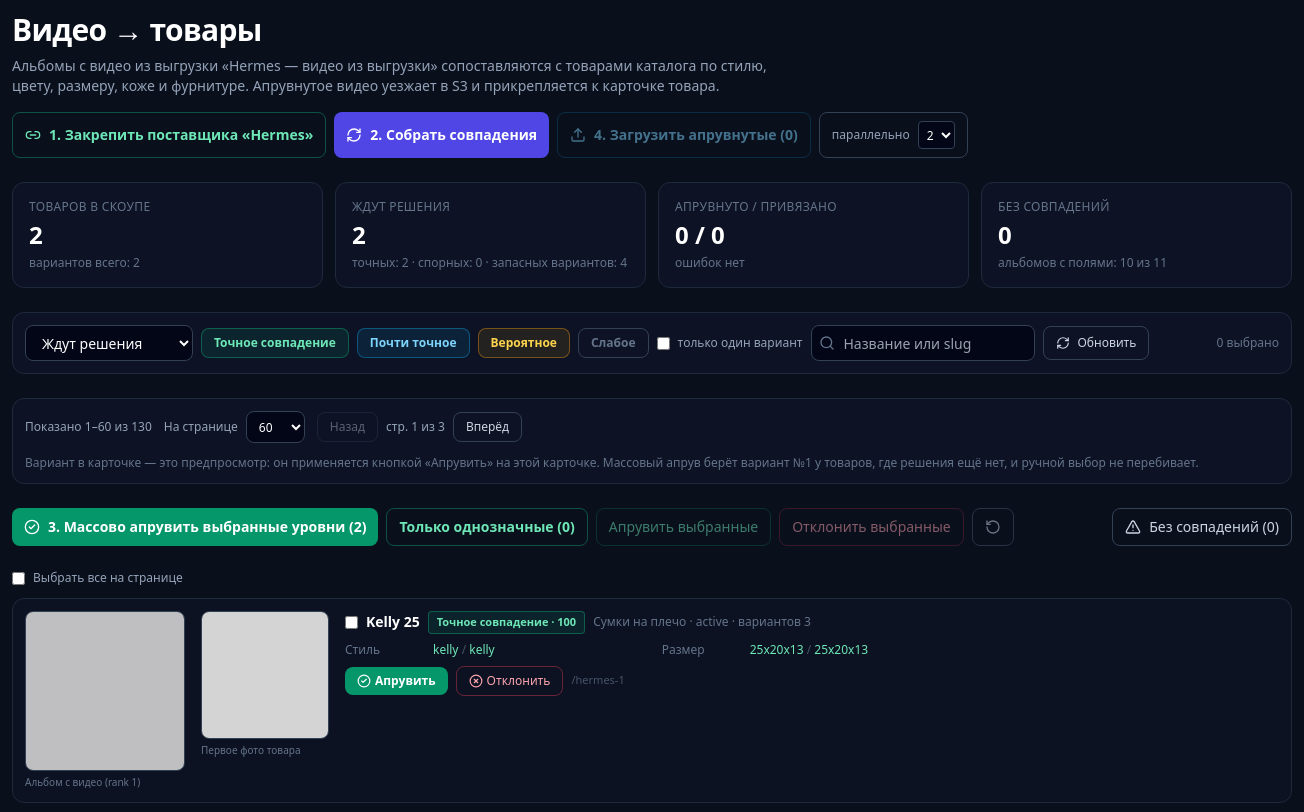
Test: VideoMatchesApp › показывает пагинацию и запрашивает соседнюю страницу
The width and height of the screenshot is (1304, 812).
Expected: the text "Показано 1–60 из 130" is shown, [25,419,152,435]
Expected: the text "стр. 1 из 3" is shown, [382,419,449,435]
Step 1. Click the button "Вперёд" → point(488, 427), box [453,412,522,442]
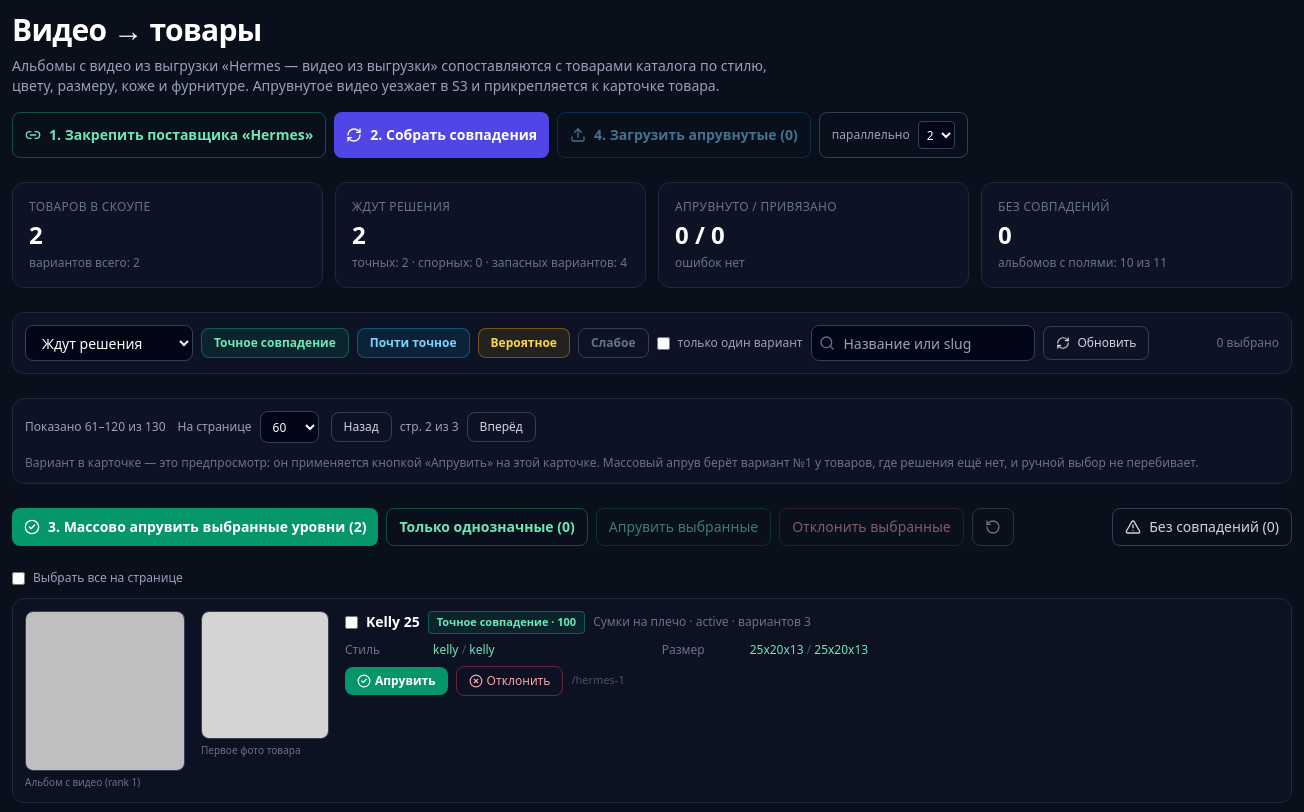
Expected: the text "Показано 61–120 из 130" is shown, [25,419,166,435]
